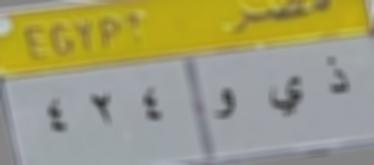2: (88, 88, 116, 132)
4: (138, 86, 167, 128), (43, 96, 68, 137)
waw: (207, 83, 240, 129)
yaa: (262, 68, 308, 127)
zaal: (320, 54, 354, 101)
